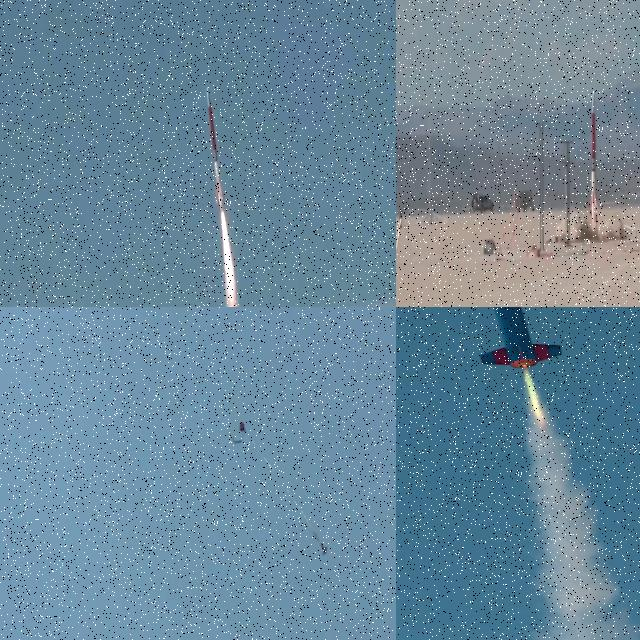Rocket: (478, 307, 564, 368), (206, 87, 224, 214), (589, 92, 599, 223), (320, 541, 328, 557)
